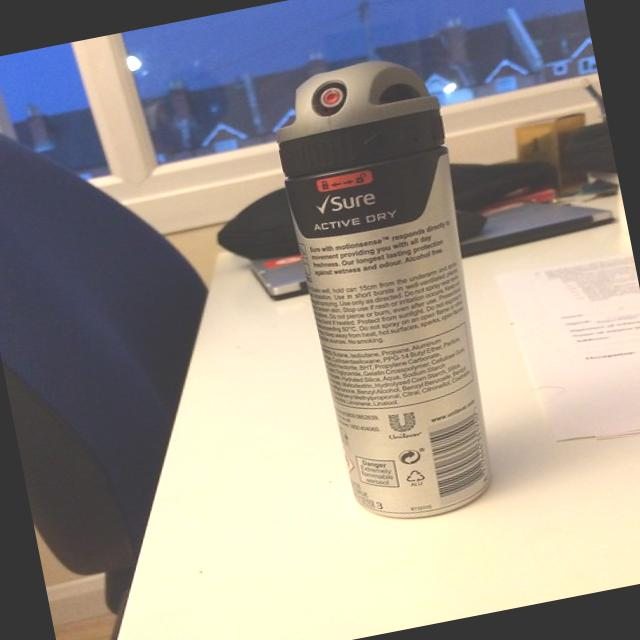Trash: (264, 49, 514, 532)
